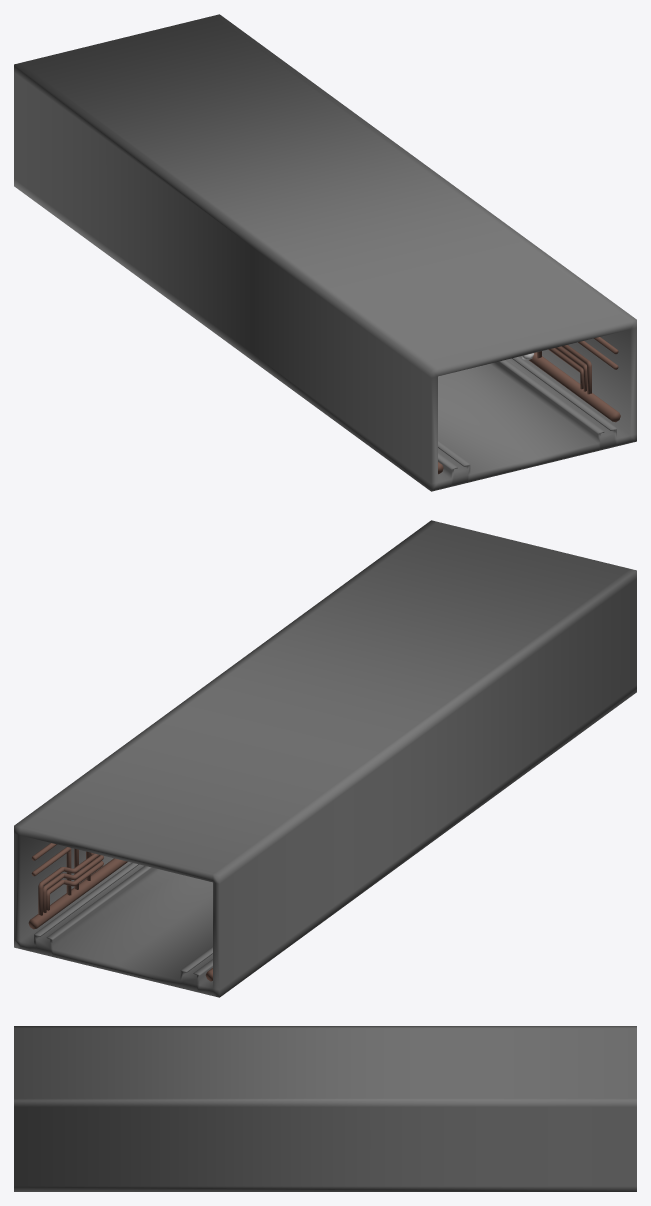
Rendered from [poo]_St2_Base.fbx.
The picture shows the model from 3 angles, top to bottom: view 1: azimuth 30°, elevation 25°; view 2: azimuth 150°, elevation 25°; view 3: azimuth 270°, elevation 25°; orthographic projection. The views are drawn at different scales.
Parts seen in each view (by area): view 1: STAGE2_Base, Cylinder.013; view 2: STAGE2_Base, Cylinder.013; view 3: STAGE2_Base.
Boxes of the visible parts, left/top/right/bottom form: STAGE2_Base: left=14, top=14, right=636, bottom=491; Cylinder.013: left=529, top=352, right=620, bottom=422; STAGE2_Base: left=14, top=520, right=636, bottom=997; Cylinder.013: left=28, top=858, right=127, bottom=929; STAGE2_Base: left=14, top=1026, right=636, bottom=1191.
Bounding box in the file's own units: 2869 × 1624 × 10081.
